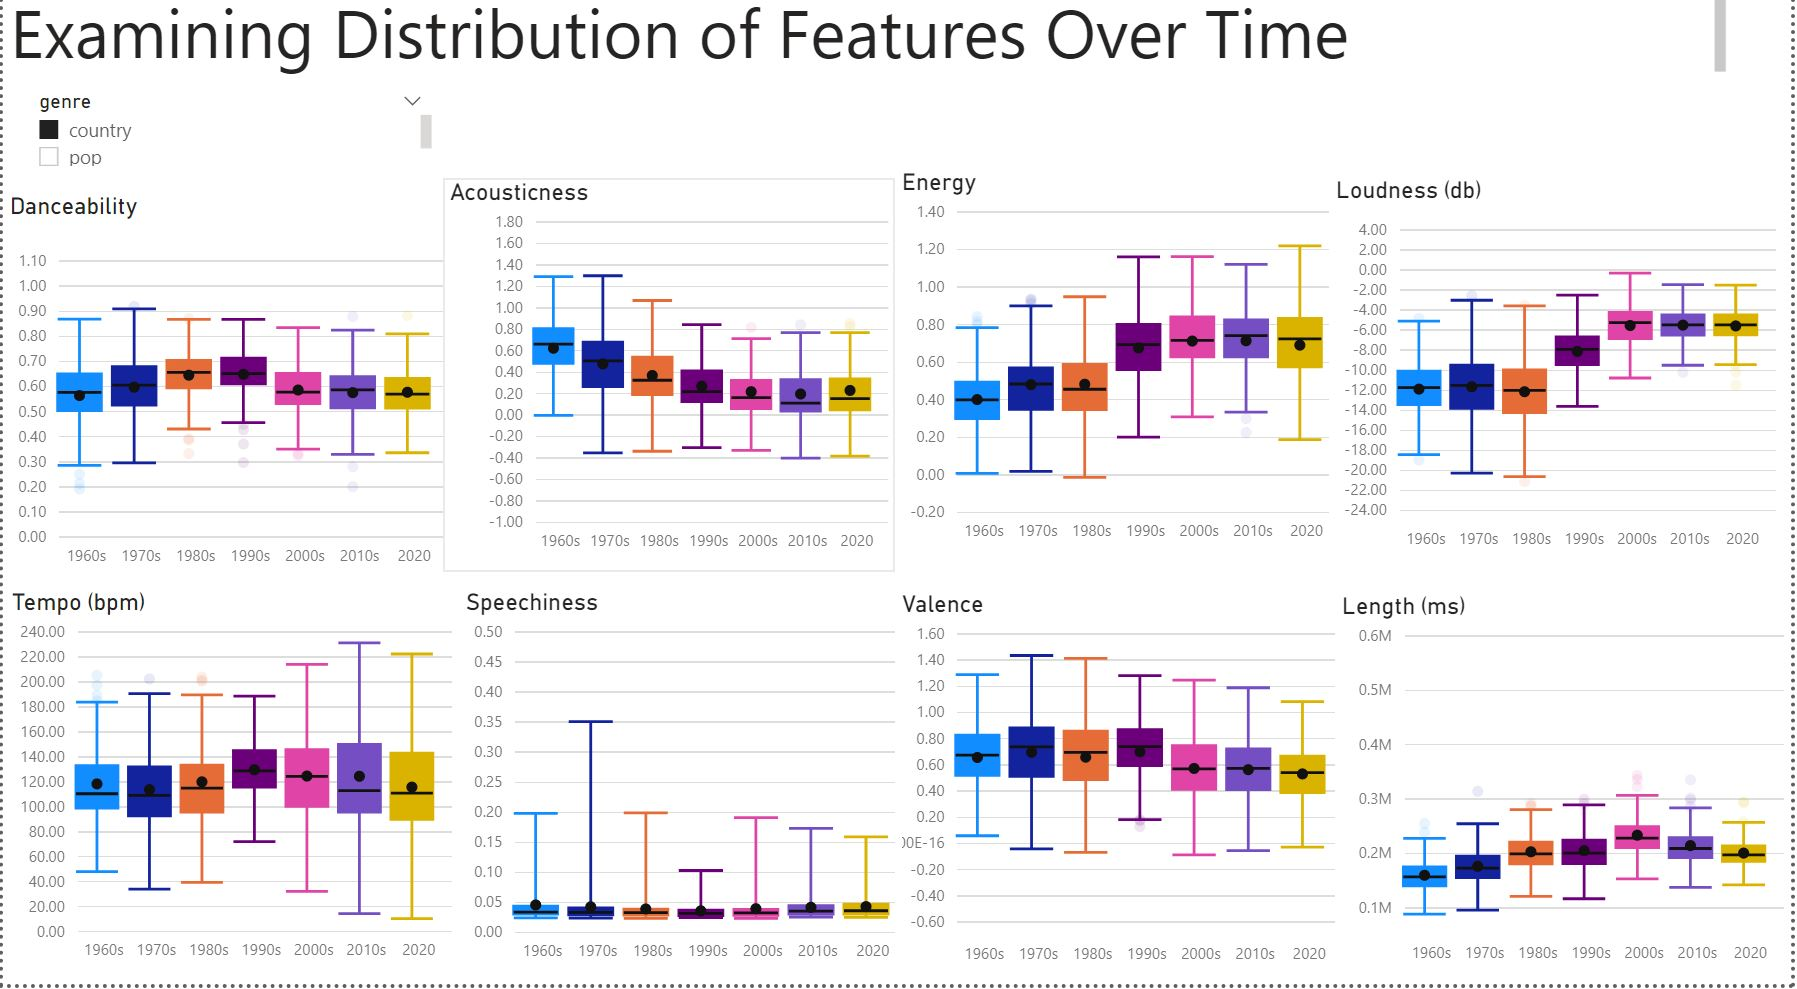

What the dashboard file says about the page in this screenshot:
{"tool":"powerbi","page":{"name":"Box Plots","canvas":[1280,720],"ordinal":0},"visuals":[{"type":"BoxWhiskerChart1455240051538","title":"Danceability","fields":{"Values":["Sum(country_pop.danceability)"],"Samples":["country_pop.name"],"Groups":["country_pop.playlist"]},"box":[0,153.4,323.8,282.1],"z":0},{"type":"textbox","box":[0,0,1238.1,73.1],"z":1000},{"type":"BoxWhiskerChart1455240051538","title":"Tempo (bpm)","fields":{"Values":["Sum(country_pop.tempo)"],"Groups":["country_pop.playlist"],"Samples":["country_pop.name"]},"box":[2,436.7,325,281],"z":2000},{"type":"BoxWhiskerChart1455240051538","title":"Acousticness","fields":{"Values":["Sum(country_pop.acousticness)"],"Samples":["country_pop.name"],"Groups":["country_pop.playlist"]},"box":[314.4,143.5,324.2,281.3],"z":3000},{"type":"BoxWhiskerChart1455240051538","title":"Speechiness","fields":{"Values":["Sum(country_pop.speechiness)"],"Samples":["country_pop.name"],"Groups":["country_pop.playlist"]},"box":[325.8,437.1,325.8,281.3],"z":4000},{"type":"BoxWhiskerChart1455240051538","title":"Energy","fields":{"Values":["Sum(country_pop.energy)"],"Samples":["country_pop.name"],"Groups":["country_pop.playlist"]},"box":[638.6,135.6,324.2,281.3],"z":5000},{"type":"BoxWhiskerChart1455240051538","title":"Valence","fields":{"Values":["Sum(country_pop.valence)"],"Samples":["country_pop.name"],"Groups":["country_pop.playlist"]},"box":[638.5,438.3,326.1,282.1],"z":6000},{"type":"BoxWhiskerChart1455240051538","title":"Loudness (db)","fields":{"Values":["Sum(country_pop.loudness)"],"Samples":["country_pop.name"],"Groups":["country_pop.playlist"]},"box":[948.6,142,325,281.3],"z":7000},{"type":"BoxWhiskerChart1455240051538","title":"Length (ms)","fields":{"Values":["Sum(country_pop.length)"],"Groups":["country_pop.playlist"],"Samples":["country_pop.name"]},"box":[953.3,439.4,326.4,280.6],"z":8000},{"type":"slicer","fields":{"Values":["country_pop.genre"]},"box":[13.3,73.8,299.2,64.4],"z":9000}]}

Visuals, with their boxes in screenshot pixels (x1, y1, x2, y2), scaled from the page's 1280x720 canvas onto the 1797x989 screenshot:
"Danceability" BoxWhiskerChart1455240051538: select_region(0, 211, 455, 598)
textbox: select_region(0, 0, 1738, 100)
"Tempo (bpm)" BoxWhiskerChart1455240051538: select_region(3, 600, 459, 986)
"Acousticness" BoxWhiskerChart1455240051538: select_region(441, 197, 897, 584)
"Speechiness" BoxWhiskerChart1455240051538: select_region(457, 600, 915, 987)
"Energy" BoxWhiskerChart1455240051538: select_region(897, 186, 1352, 573)
"Valence" BoxWhiskerChart1455240051538: select_region(896, 602, 1354, 988)
"Loudness (db)" BoxWhiskerChart1455240051538: select_region(1332, 195, 1788, 581)
"Length (ms)" BoxWhiskerChart1455240051538: select_region(1338, 604, 1796, 988)
slicer - country_pop.genre: select_region(19, 101, 439, 190)
